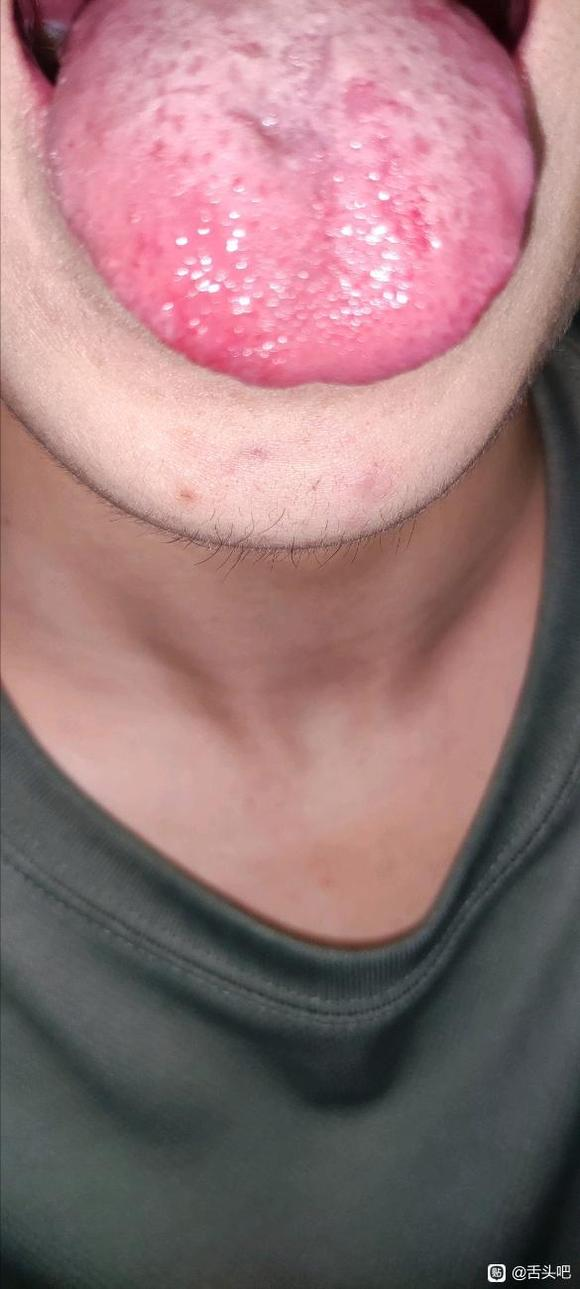baitaishe: (46, 2, 536, 390)
hongdianshe: (227, 173, 243, 196)
hongshe: (46, 1, 536, 389)
